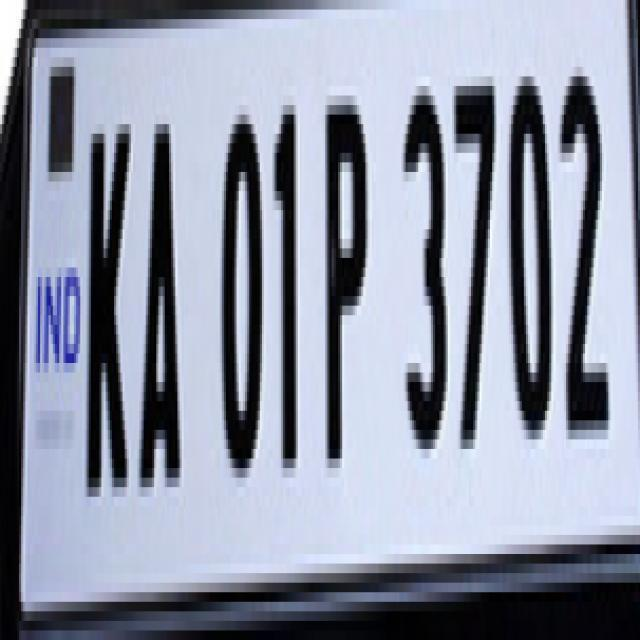0: (217, 93, 267, 498), (506, 64, 554, 479)
1: (272, 87, 304, 498)
3: (398, 64, 449, 474)
7: (454, 64, 494, 488)
A: (138, 93, 186, 523)
K: (81, 93, 132, 540)
P: (323, 90, 373, 493)
